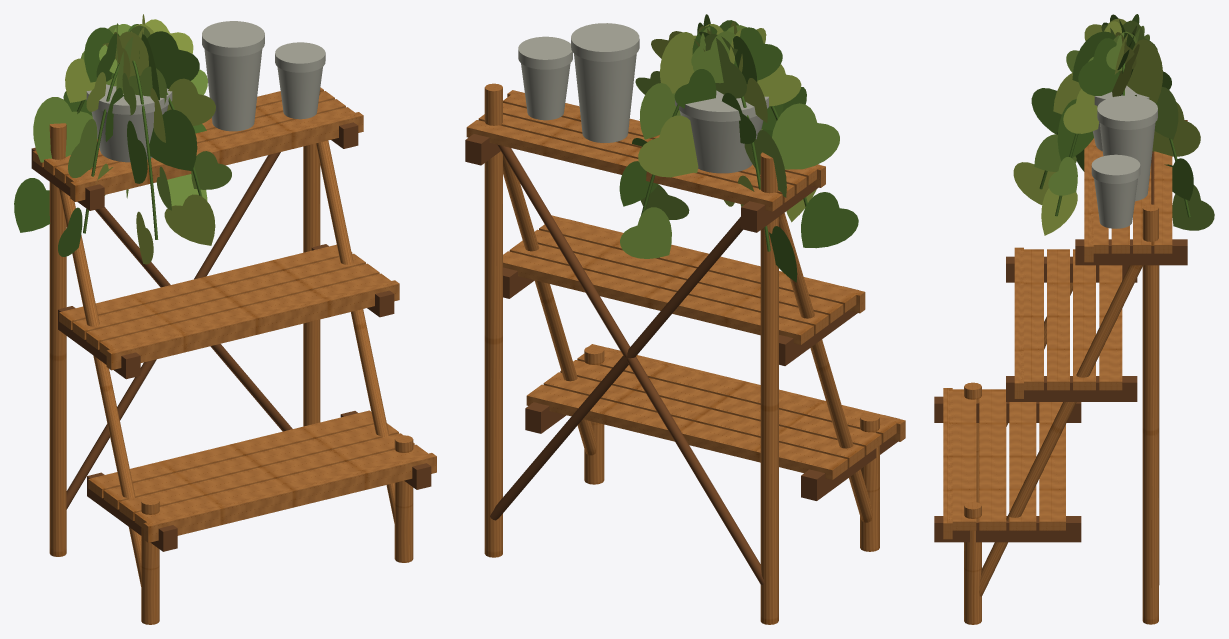
Rendered from plantRack.glb.
The picture shows the model from 3 angles, left to right: view 1: azimuth 30°, elevation 25°; view 2: azimuth 150°, elevation 25°; view 3: azimuth 270°, elevation 25°; orthographic projection. The views are drawn at different scales.
Visible parts, largest first — view 1: 绿萝心形叶片 (×16), 第1层竹木板 (×4), 层架前沿 (×3), 第2层竹木板 (×4), 后立柱 (×2), 灰色花盆 (×3), 斜支撑 (×2), 背面交叉撑 (×2), 第3层竹木板 (×3), 层架侧横撑 (×5), 花盆口沿 (×3), 前支腿 (×2) (+1 smaller); view 2: 绿萝心形叶片 (×18), 第1层竹木板 (×4), 第2层竹木板 (×4), 后立柱 (×2), 第3层竹木板 (×4), 背面交叉撑 (×2), 灰色花盆 (×3), 斜支撑 (×2), 层架侧横撑 (×5), 花盆口沿 (×3), 前支腿 (×2), 层架前沿 (×2); view 3: 绿萝心形叶片 (×16), 第1层竹木板 (×4), 第2层竹木板 (×4), 层架侧横撑 (×5), 后立柱, 层架前沿 (×3), 第3层竹木板 (×4), 斜支撑, 灰色花盆 (×2), 花盆口沿 (×2), 前支腿 (×2), 背面交叉撑.
Part boxes in pixels (x1=…): 绿萝心形叶片 (×16): x1=14, y1=27, x2=231, y2=264; 第1层竹木板 (×4): x1=88, y1=410, x2=427, y2=528; 层架前沿 (×3): x1=70, y1=112, x2=436, y2=542; 第2层竹木板 (×4): x1=59, y1=244, x2=390, y2=355; 后立柱 (×2): x1=49, y1=89, x2=320, y2=556; 灰色花盆 (×3): x1=91, y1=49, x2=322, y2=162; 斜支撑 (×2): x1=59, y1=140, x2=394, y2=586; 背面交叉撑 (×2): x1=66, y1=152, x2=292, y2=509; 第3层竹木板 (×3): x1=44, y1=91, x2=356, y2=187; 层架侧横撑 (×5): x1=31, y1=147, x2=431, y2=551; 花盆口沿 (×3): x1=86, y1=21, x2=325, y2=114; 前支腿 (×2): x1=141, y1=435, x2=413, y2=624; 绿萝心形叶片 (×18): x1=619, y1=27, x2=858, y2=282; 第1层竹木板 (×4): x1=526, y1=350, x2=897, y2=479; 第2层竹木板 (×4): x1=503, y1=219, x2=857, y2=344; 后立柱 (×2): x1=484, y1=83, x2=778, y2=624; 第3层竹木板 (×4): x1=466, y1=93, x2=816, y2=211; 背面交叉撑 (×2): x1=490, y1=144, x2=764, y2=585; 灰色花盆 (×3): x1=521, y1=53, x2=763, y2=173; 斜支撑 (×2): x1=503, y1=155, x2=872, y2=522; 层架侧横撑 (×5): x1=465, y1=134, x2=899, y2=500; 花盆口沿 (×3): x1=518, y1=23, x2=768, y2=121; 前支腿 (×2): x1=584, y1=345, x2=879, y2=551; 层架前沿 (×2): x1=551, y1=215, x2=905, y2=441; 绿萝心形叶片 (×16): x1=1013, y1=31, x2=1214, y2=235; 第1层竹木板 (×4): x1=949, y1=389, x2=1065, y2=530; 第2层竹木板 (×4): x1=1021, y1=249, x2=1122, y2=390; 层架侧横撑 (×5): x1=934, y1=239, x2=1187, y2=542; 后立柱: x1=1142, y1=204, x2=1158, y2=624; 层架前沿 (×3): x1=943, y1=139, x2=1093, y2=539; 第3层竹木板 (×4): x1=1090, y1=138, x2=1172, y2=253; 斜支撑: x1=979, y1=265, x2=1142, y2=596; 灰色花盆 (×2): x1=1094, y1=122, x2=1155, y2=228; 花盆口沿 (×2): x1=1091, y1=95, x2=1157, y2=183; 前支腿 (×2): x1=964, y1=382, x2=981, y2=624; 背面交叉撑: x1=1151, y1=151, x2=1159, y2=584.
Size of the model in its own units: 0.8978 by 1.44 by 0.7252.
11 materials, 1 textured.
